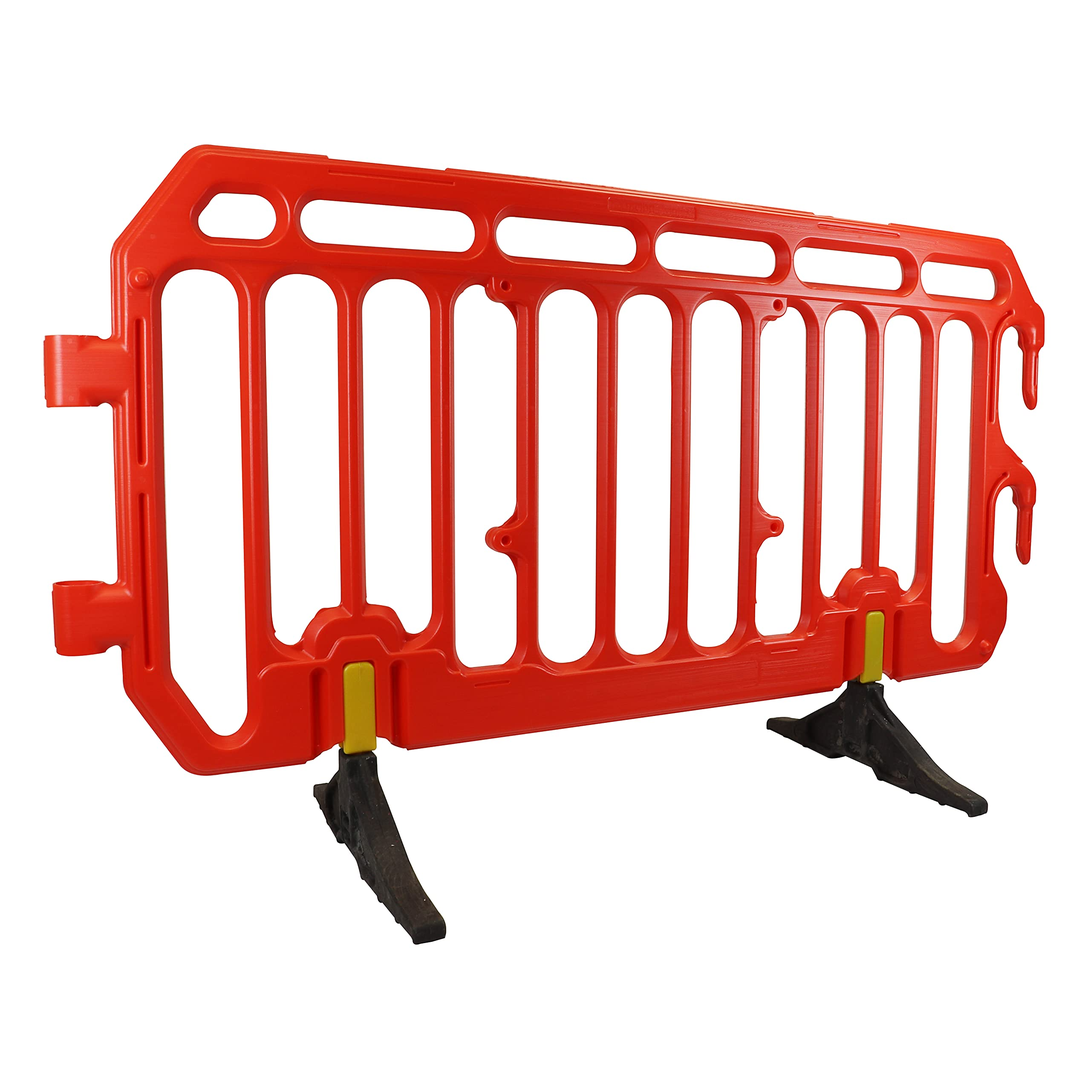Barrier: (42, 113, 1051, 963)
